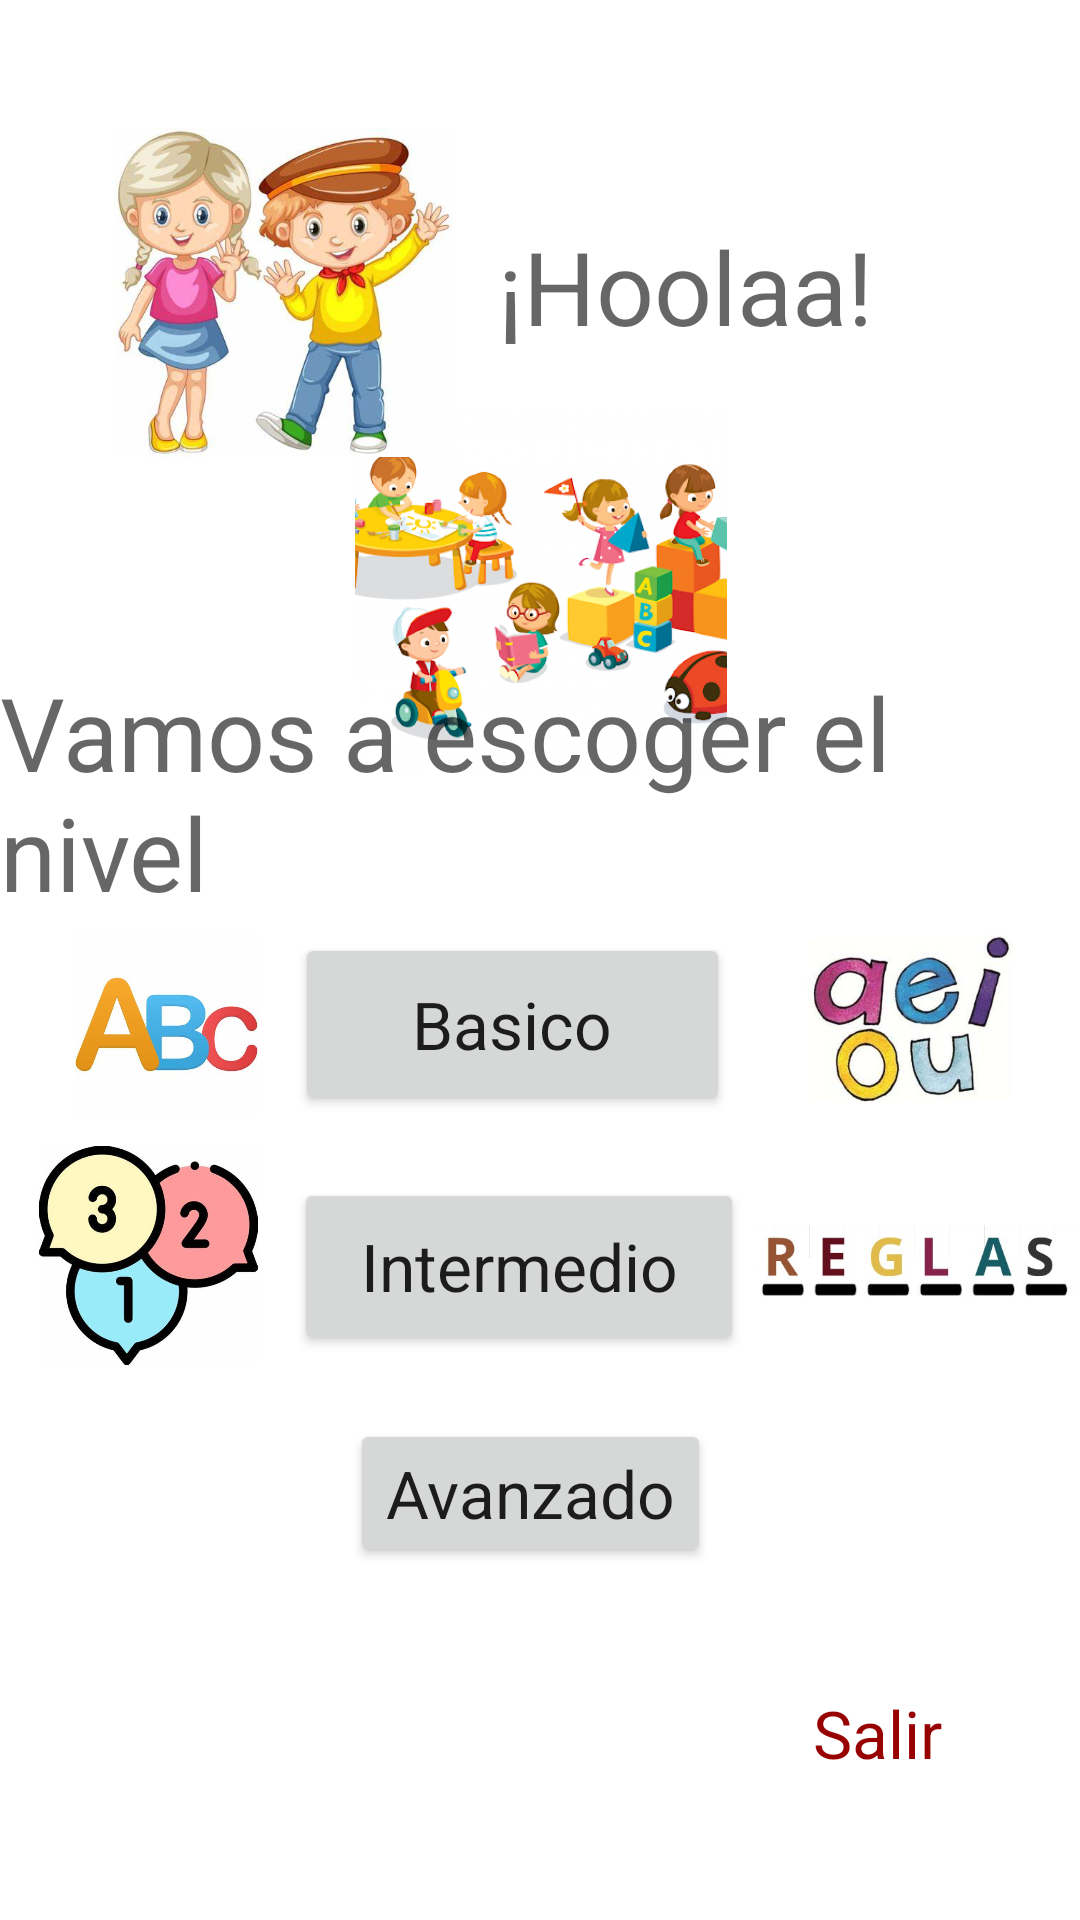

Icons on this 1080*1920 Android screen, each with its box as [x1, y1, x2, y2]:
letras: [75, 977, 258, 1072]
numeros: [39, 1146, 258, 1365]
saludo: [118, 131, 451, 454]
vocales: [813, 937, 1009, 1102]
